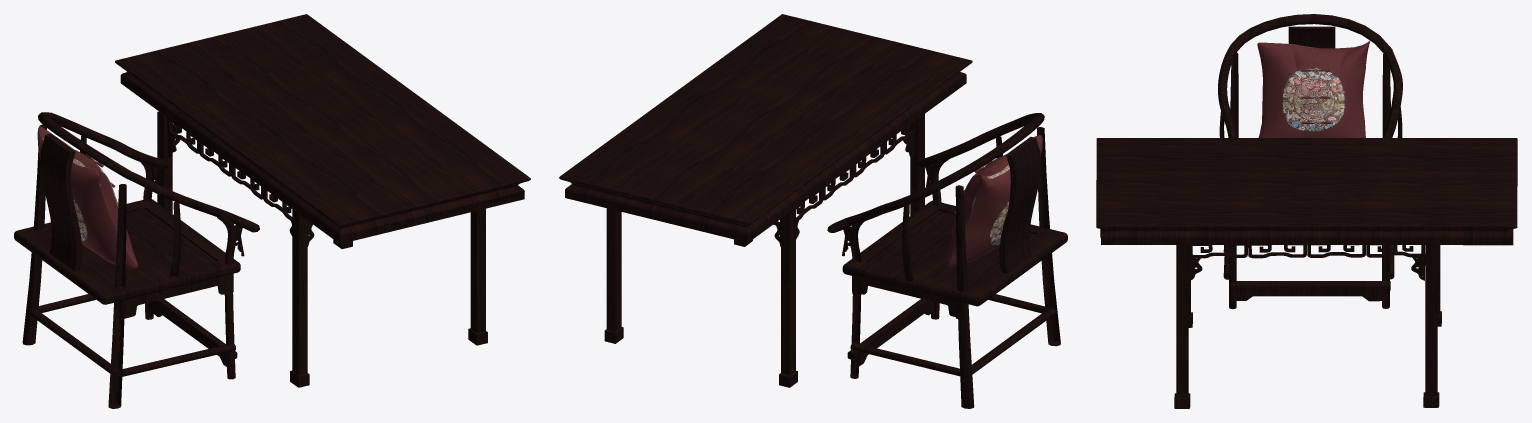
The model's file is table3.obj.
3 renders of one model, left to right at view 1: azimuth 30°, elevation 25°; view 2: azimuth 150°, elevation 25°; view 3: azimuth 270°, elevation 25°, orthographic. The views are drawn at different scales.
Visible parts, largest first — view 1: Object09, zhuozi, ChamferBox, Box249, Object244, Box250, Loft1491, Loft1493, Loft1492, Object238, Loft1494, Object242 (+3 smaller); view 2: Object09, zhuozi, ChamferBox, Box249, Object244, Box250, Loft1491, Loft1492, Loft1493, Object239, Object240, Object242 (+5 smaller); view 3: Object09, Box249, zhuozi, Loft1491, Object239, Line178954, Box250, Loft1492, Loft1493, Loft1494.
Boxes of the visible parts, x1,y1,x2,y2 form: Object09: [115, 14, 530, 243]; zhuozi: [157, 111, 487, 387]; ChamferBox: [14, 199, 240, 304]; Box249: [37, 126, 137, 268]; Object244: [46, 209, 215, 283]; Box250: [40, 133, 82, 271]; Loft1491: [38, 112, 259, 232]; Loft1493: [108, 184, 126, 408]; Loft1492: [22, 124, 46, 345]; Object238: [120, 273, 233, 319]; Loft1494: [217, 215, 236, 379]; Object242: [29, 309, 121, 377]; Object09: [559, 14, 972, 242]; zhuozi: [604, 114, 924, 387]; ChamferBox: [842, 200, 1067, 306]; Box249: [947, 135, 1042, 266]; Object244: [868, 210, 1036, 285]; Box250: [999, 136, 1040, 273]; Loft1491: [827, 113, 1044, 232]; Loft1492: [955, 185, 974, 408]; Loft1493: [1037, 127, 1060, 346]; Object239: [847, 298, 934, 360]; Object240: [850, 342, 960, 376]; Object242: [971, 307, 1056, 374]; Object09: [1096, 138, 1517, 245]; Box249: [1257, 41, 1370, 137]; zhuozi: [1174, 245, 1441, 408]; Loft1491: [1218, 14, 1402, 137]; Object239: [1229, 281, 1390, 290]; Line178954: [1229, 290, 1387, 301]; Box250: [1288, 26, 1335, 48]; Loft1492: [1382, 54, 1397, 251]; Loft1493: [1223, 53, 1238, 252]; Loft1494: [1229, 245, 1236, 309].
Size of the model in its own units: 5.97 by 3.91 by 6.38.
